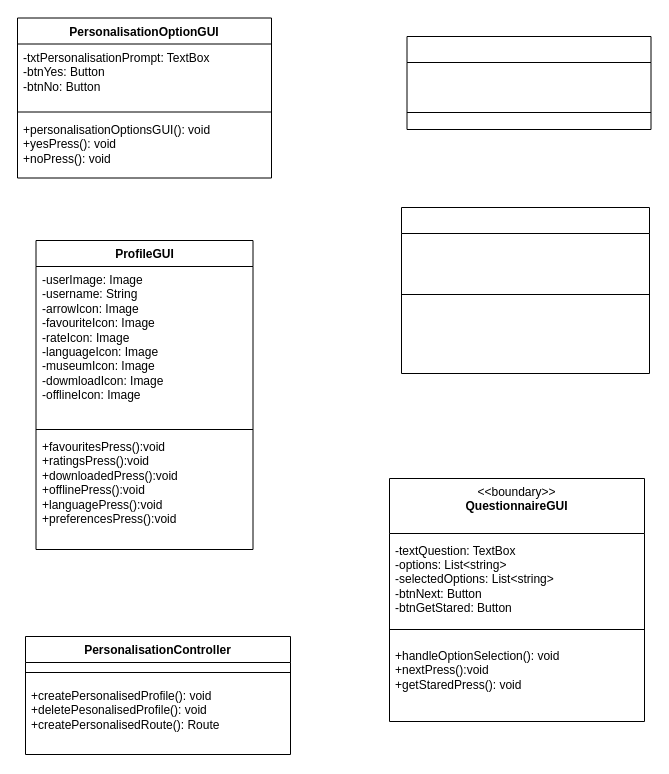
Image size: 669x774. Some labels were removed from this diagram. Each missing label, with the centre of its shape:
"Exhibit" goes at point (528, 83).
"User" goes at point (525, 290).
